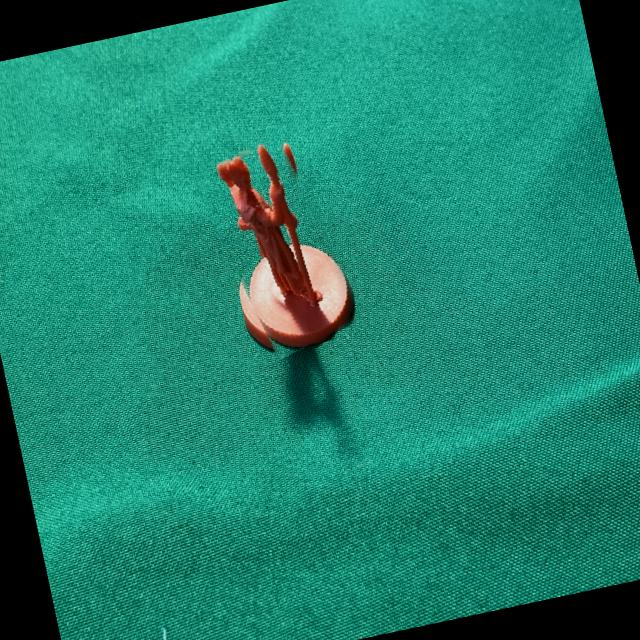amon_follower: (216, 144, 353, 347)
